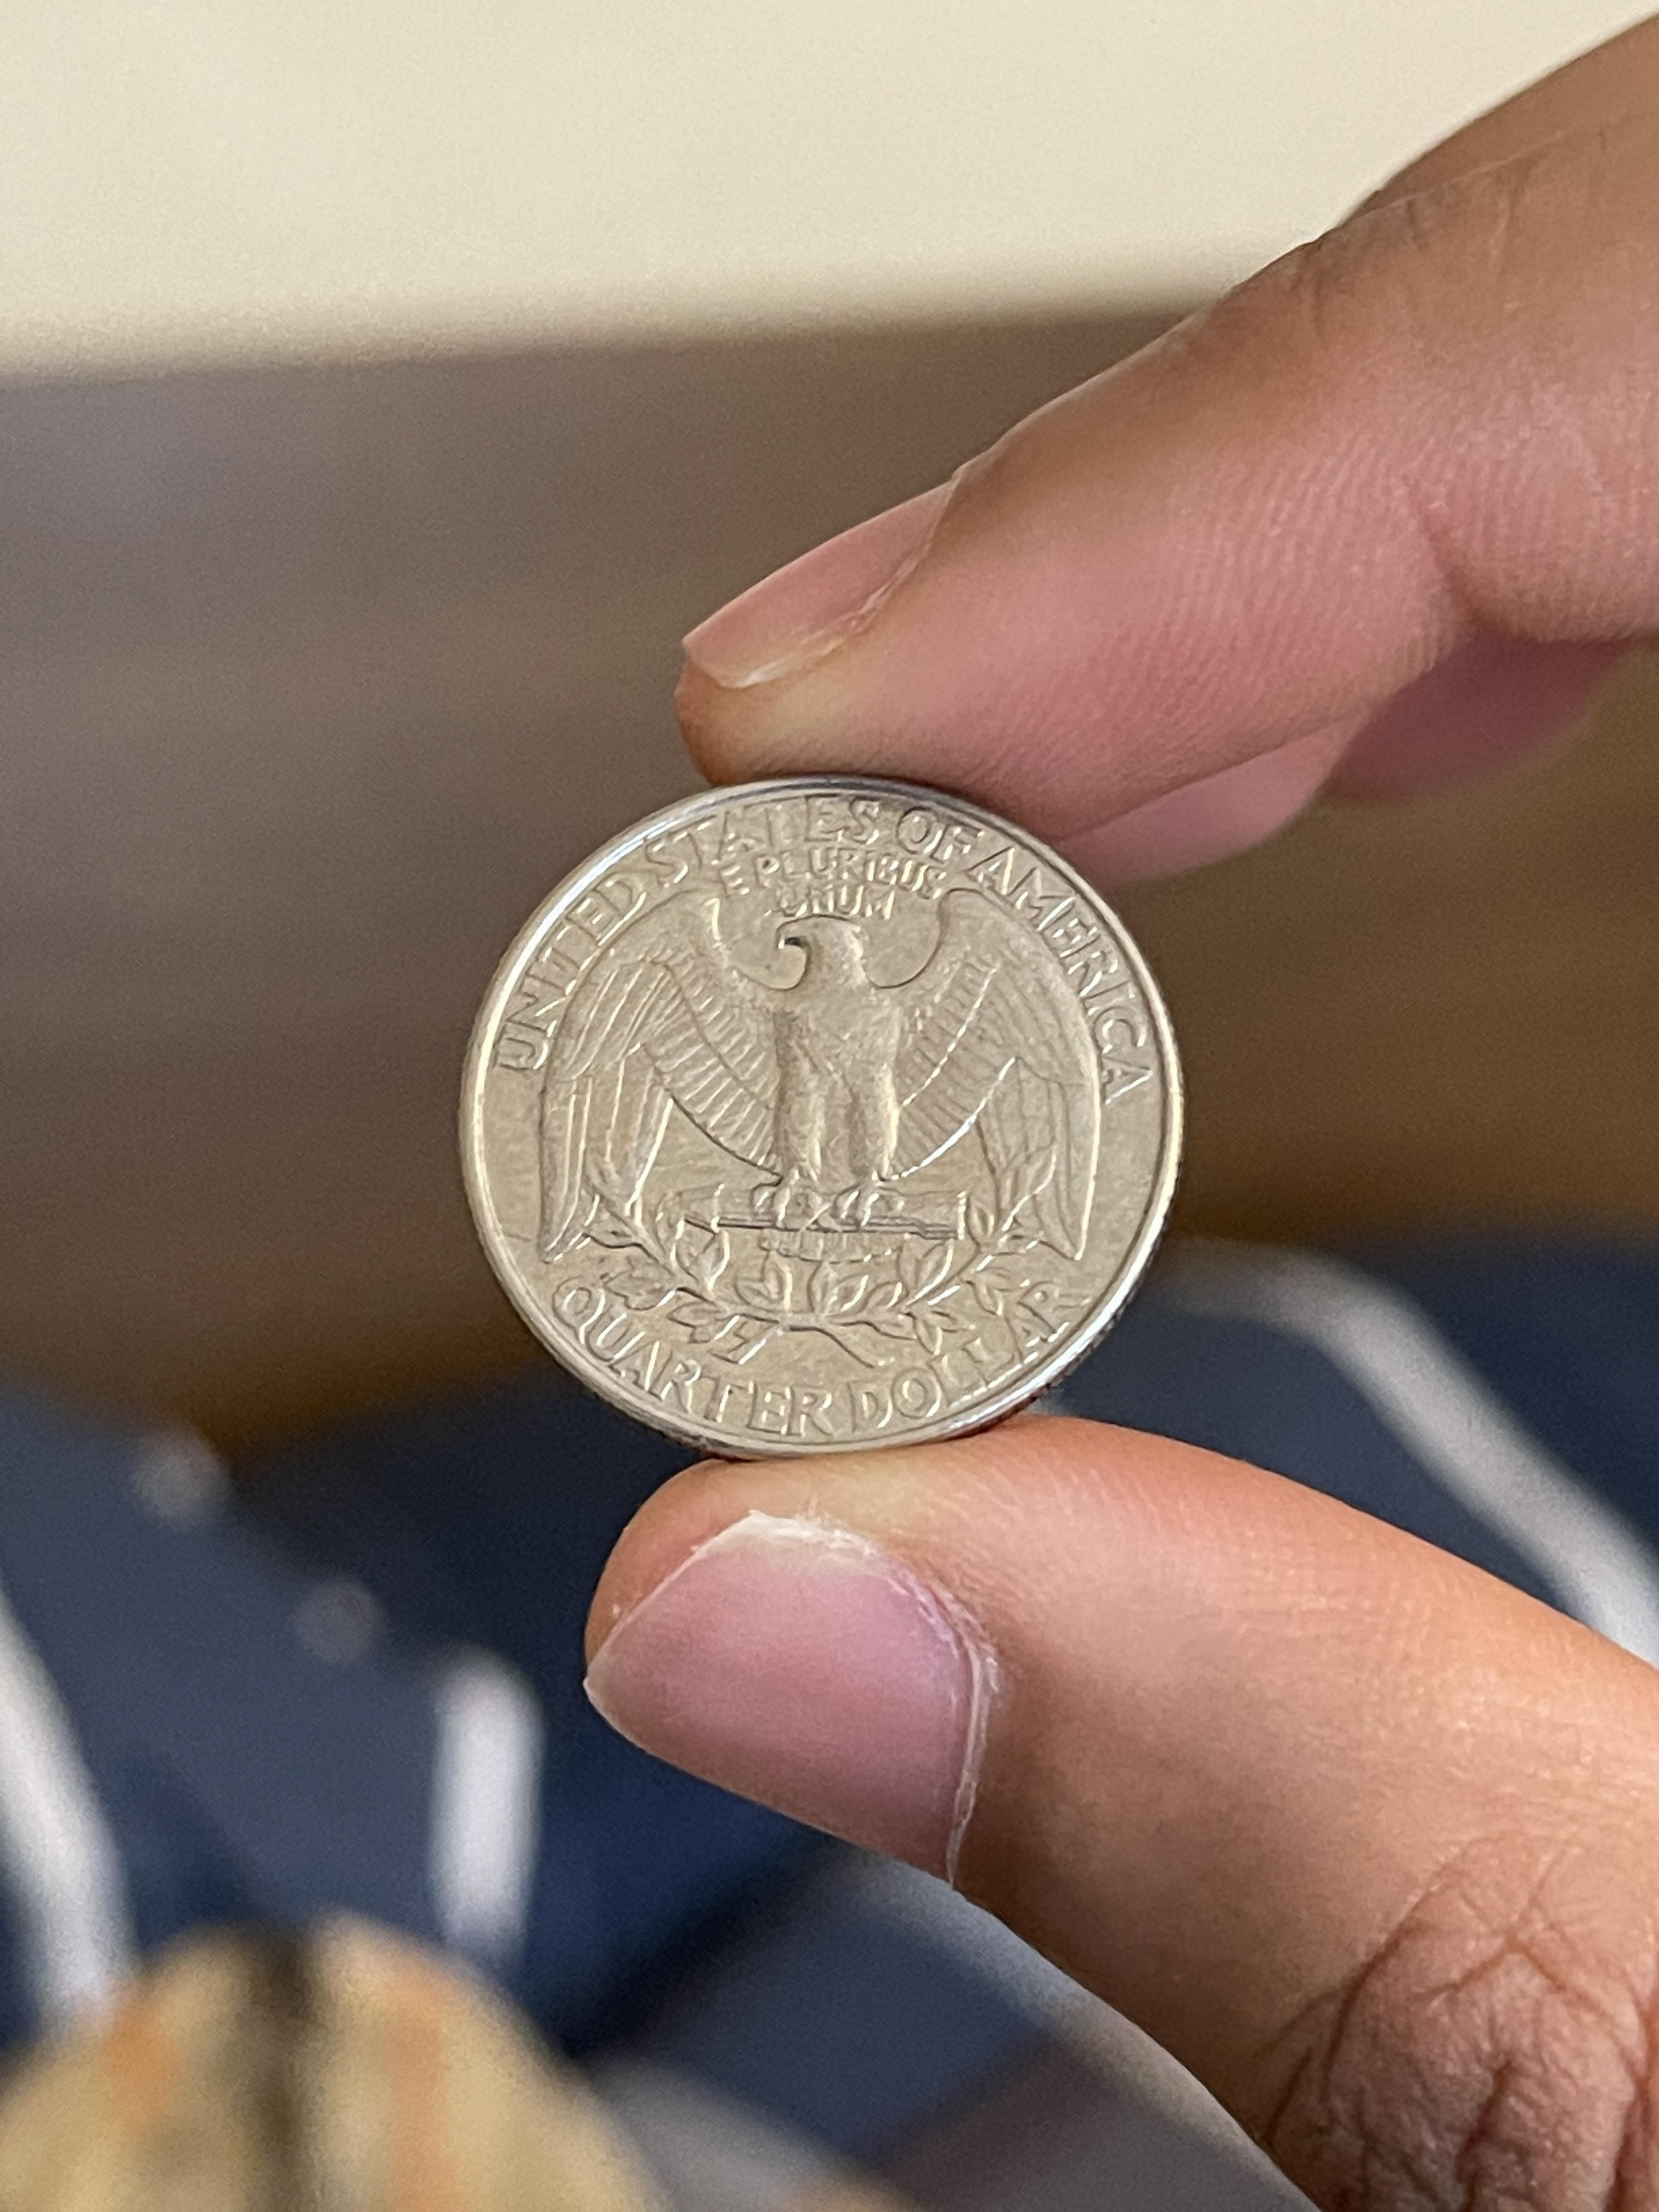Quarter: (448, 768, 1192, 1468)
